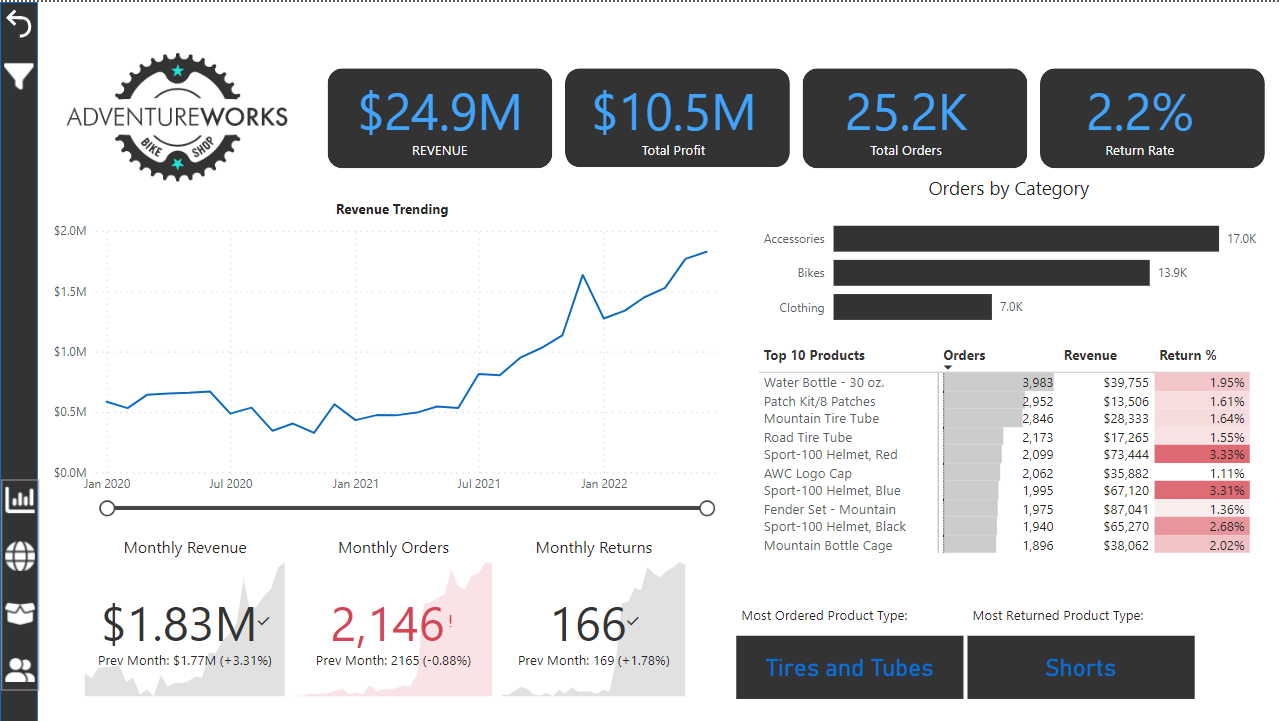

The dashboard page shown, as its layout file describes it:
{"tool":"powerbi","page":{"name":"Exec Dashboard","canvas":[1280,720],"ordinal":0},"visuals":[{"type":"card","fields":{"Values":["Measure Table.Total Revenue"]},"box":[300,32.9,280,165.7],"z":0,"group":"g2"},{"type":"image","title":"AW Logo","box":[37.9,33,279.9,165],"z":0},{"type":"shape","box":[327.6,66.1,224.9,100.2],"z":0,"group":"g1"},{"type":"actionButton","box":[1.2,478,37.9,40.3],"z":0,"group":"g4"},{"type":"group","id":"g1","title":"KPI Backgrounds","box":[327.6,66.1,937.6,100.2],"z":6,"group":"g3"},{"type":"group","id":"g2","title":"KPI VALUES","box":[300,32.9,980,165.7],"z":11,"group":"g3"},{"type":"shape","title":"Left Nav Backgroung","box":[0,0,37.9,720],"z":1000},{"type":"card","fields":{"Values":["Measure Table.Total Profit"]},"box":[533.3,32.9,280,165.7],"z":1000,"group":"g2"},{"type":"shape","box":[1040.3,66.1,224.9,100.2],"z":1000,"group":"g1"},{"type":"actionButton","box":[1.2,591.3,37.9,40.3],"z":1000,"group":"g4"},{"type":"group","id":"g3","title":"KPIS","box":[300,32.9,980,165.7],"z":2000},{"type":"card","fields":{"Values":["Measure Table.Total Orders"]},"box":[766.7,32.9,280,165.7],"z":2000,"group":"g2"},{"type":"shape","box":[802.7,66.1,224.9,100.2],"z":2000,"group":"g1"},{"type":"actionButton","box":[1.2,647.9,37.9,40.3],"z":2000,"group":"g4"},{"type":"card","fields":{"Values":["Measure Table.Return Rate"]},"box":[1000,32.9,280,165.7],"z":3000,"group":"g2"},{"type":"shape","box":[565.2,66.1,224.9,99],"z":3000,"group":"g1"},{"type":"lineChart","title":"Revenue Trending ","fields":{"Y":["Measure Table.Total Revenue"],"Category":["Calendar Lookup.Date Hierarchy.Start of Year","Calendar Lookup.Date Hierarchy.Start of Quarter","Calendar Lookup.Date Hierarchy.Start of Month","Calendar Lookup.Date Hierarchy.Start of Week"]},"box":[48.9,198,687,319],"z":3000},{"type":"actionButton","box":[1.2,534.6,37.9,40.3],"z":3000,"group":"g4"},{"type":"kpi","title":"Monthly Revenue","fields":{"Indicator":["Measure Table.Total Revenue"],"TrendLine":["Calendar Lookup.Date Hierarchy.Start of Month"],"Goal":["Measure Table.Previous Month Revenue"]},"box":[80.5,533.5,210,165.7],"z":4000},{"type":"kpi","title":"Monthly Orders","fields":{"Indicator":["Measure Table.Total Orders"],"TrendLine":["Calendar Lookup.Date Hierarchy.Start of Month"],"Goal":["Measure Table.Previous Month Orders"]},"box":[290.5,533.5,207.1,165.7],"z":5000},{"type":"kpi","title":"Monthly Returns","fields":{"TrendLine":["Calendar Lookup.Date Hierarchy.Start of Month"],"Indicator":["Measure Table.Total Returns"],"Goal":["Measure Table.Previous Month Returns"]},"box":[497.7,533.5,192.9,165.7],"z":6000},{"type":"clusteredBarChart","title":"Orders by Category","fields":{"Category":["Product Categories Lookup.CategoryName"],"Y":["Measure Table.Total Orders"]},"box":[754.3,172.9,510,165.7],"z":7000},{"type":"pivotTable","fields":{"Rows":["Product Lookup.ProductName"],"Values":["Measure Table.Total Orders","Measure Table.Total Revenue","Measure Table.Return Rate"]},"box":[754.3,338.6,510,220],"z":8000},{"type":"card","fields":{"Values":["Min(Product Subcategories Lookup.SubcategoryName)"]},"box":[735.7,634.3,227.1,62.9],"z":9000},{"type":"textbox","box":[735.9,599,227.4,46.5],"z":10000},{"type":"card","fields":{"Values":["Min(Product Subcategories Lookup.SubcategoryName)"]},"box":[967.4,634,227.1,62.9],"z":11000},{"type":"textbox","box":[966.9,599,227.4,47.7],"z":12000},{"type":"actionButton","box":[0,0,37.9,42.8],"z":13000},{"type":"group","id":"g4","title":"Group 1","box":[1.2,478,37.9,210.3],"z":14000},{"type":"actionButton","box":[0,53.8,37.9,40.3],"z":15000}]}

Visuals, with their boxes on the page's 1280x720 design canvas (x1, y1, x2, y2). These are canvas units, not pixel positions in the 1279x721 screenshot, which may show the page scaled, cropped or inside an application window:
card - Measure Table.Total Revenue: [300,33,580,199]
"AW Logo" image: [38,33,318,198]
shape: [328,66,552,166]
actionButton: [1,478,39,518]
"KPI Backgrounds" group: [328,66,1265,166]
"KPI VALUES" group: [300,33,1280,199]
"Left Nav Backgroung" shape: [0,0,38,720]
card - Measure Table.Total Profit: [533,33,813,199]
shape: [1040,66,1265,166]
actionButton: [1,591,39,632]
"KPIS" group: [300,33,1280,199]
card - Measure Table.Total Orders: [767,33,1047,199]
shape: [803,66,1028,166]
actionButton: [1,648,39,688]
card - Measure Table.Return Rate: [1000,33,1280,199]
shape: [565,66,790,165]
"Revenue Trending " lineChart: [49,198,736,517]
actionButton: [1,535,39,575]
"Monthly Revenue" kpi: [80,534,290,699]
"Monthly Orders" kpi: [290,534,498,699]
"Monthly Returns" kpi: [498,534,691,699]
"Orders by Category" clusteredBarChart: [754,173,1264,339]
pivotTable - Product Lookup.ProductName x Measure Table.Total Orders: [754,339,1264,559]
card - Min(Product Subcategories Lookup.SubcategoryName): [736,634,963,697]
textbox: [736,599,963,646]
card - Min(Product Subcategories Lookup.SubcategoryName): [967,634,1194,697]
textbox: [967,599,1194,647]
actionButton: [0,0,38,43]
"Group 1" group: [1,478,39,688]
actionButton: [0,54,38,94]
